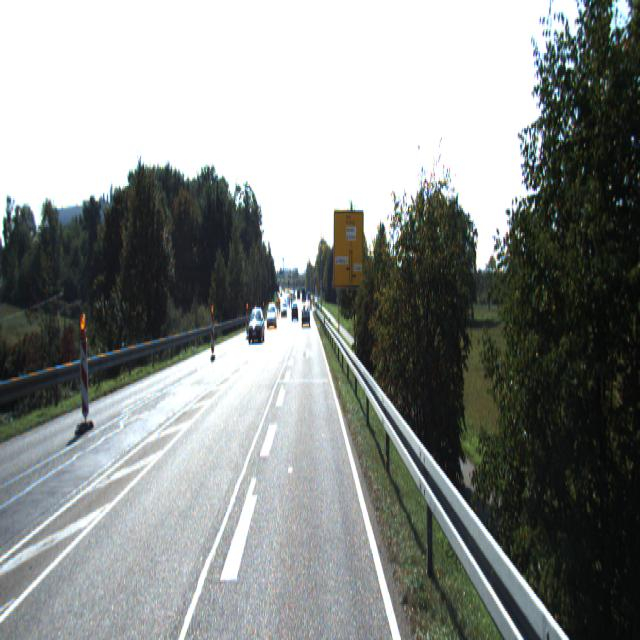Car: (248, 307, 265, 347), (302, 308, 310, 330)
